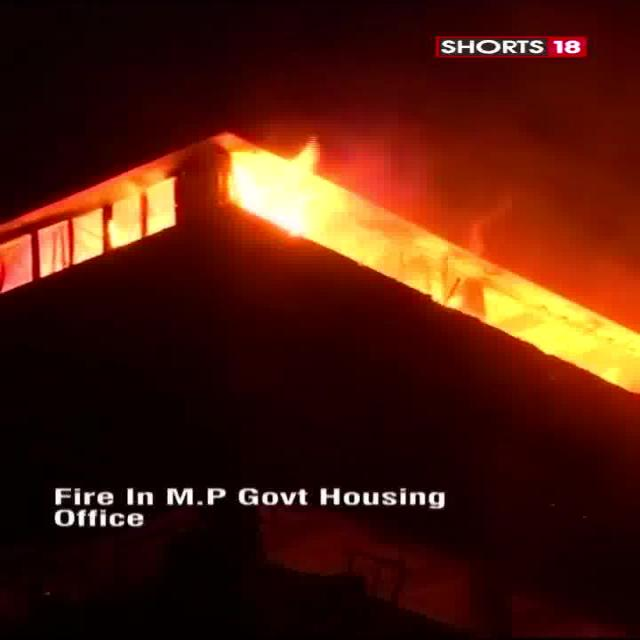fire: (322, 212, 466, 297), (215, 134, 334, 229), (48, 190, 183, 246)
